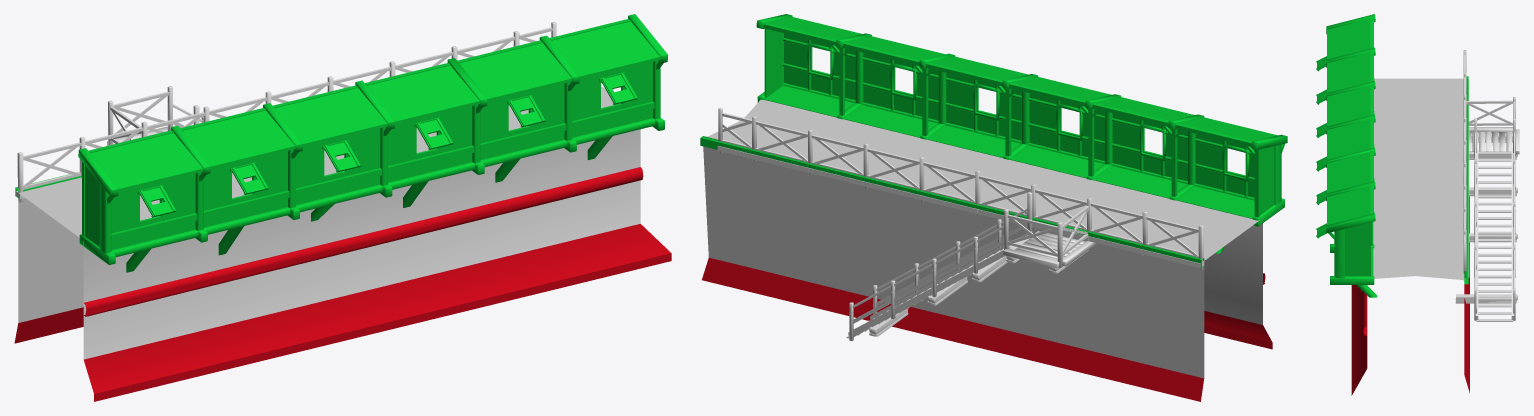
The model's file is Wall_3v2 (1).fbx.
3 views of the same model, side by side, from view 1: azimuth 30°, elevation 25°; view 2: azimuth 150°, elevation 25°; view 3: azimuth 270°, elevation 25° (orthographic). The views are drawn at different scales.
Visible parts, largest first — view 1: Group_4.015, Group_4.028, Group_3.012, Group_3.013, Group_4.013, Group_4.007, Group_4.012, Group_4.011, Group_4.010, Group_4.035; view 2: Group_4.015, Group_4.028, Group_3.012, Group_3.013, Group_3.011; view 3: Group_4.015, Group_4.028, Group_3.013, Group_3.012.
Part boxes in pixels (x1,y1,x2,y2): Group_4.015: [14, 86, 671, 401]; Group_4.028: [78, 14, 667, 272]; Group_3.012: [16, 21, 556, 202]; Group_3.013: [106, 86, 203, 146]; Group_4.013: [508, 95, 545, 127]; Group_4.007: [139, 185, 176, 217]; Group_4.012: [416, 118, 452, 149]; Group_4.011: [324, 140, 360, 172]; Group_4.010: [232, 163, 268, 194]; Group_4.035: [601, 73, 637, 104]; Group_4.015: [700, 99, 1272, 401]; Group_4.028: [756, 14, 1287, 253]; Group_3.012: [717, 107, 1204, 270]; Group_3.013: [846, 192, 1095, 340]; Group_3.011: [1033, 189, 1088, 240]; Group_4.015: [1351, 76, 1469, 395]; Group_4.028: [1326, 14, 1376, 297]; Group_3.013: [1455, 97, 1519, 321]; Group_3.012: [1463, 50, 1469, 280].
Bounding box in the file's own units: 1929 × 769 × 793.
